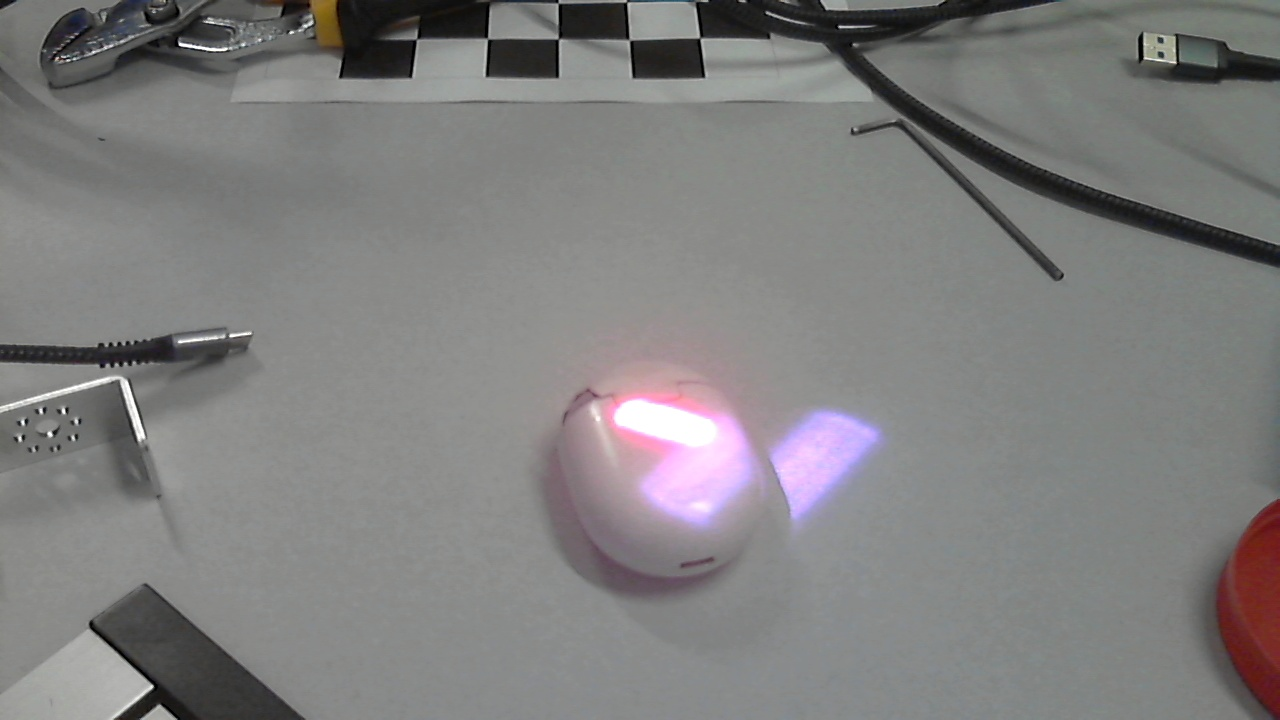Object toy football - Material foam - Color blue - Pdfname VT1ffZoLOnKv: (528, 339, 781, 581)
